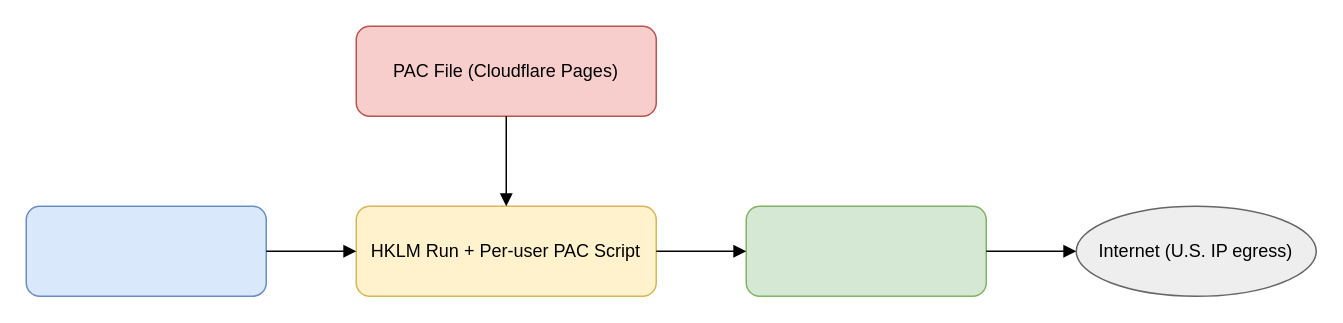
Some shapes in this 1343 by 323 pixel diagram are drawn without their labels. Here are the shapes that lost their labels. From the top down, the centre of each, then its label:
At (x=145, y=250): "AVD Hosts (Chile / SE Asia)".
At (x=865, y=250): "U.S. Proxy VM (Squid)".
